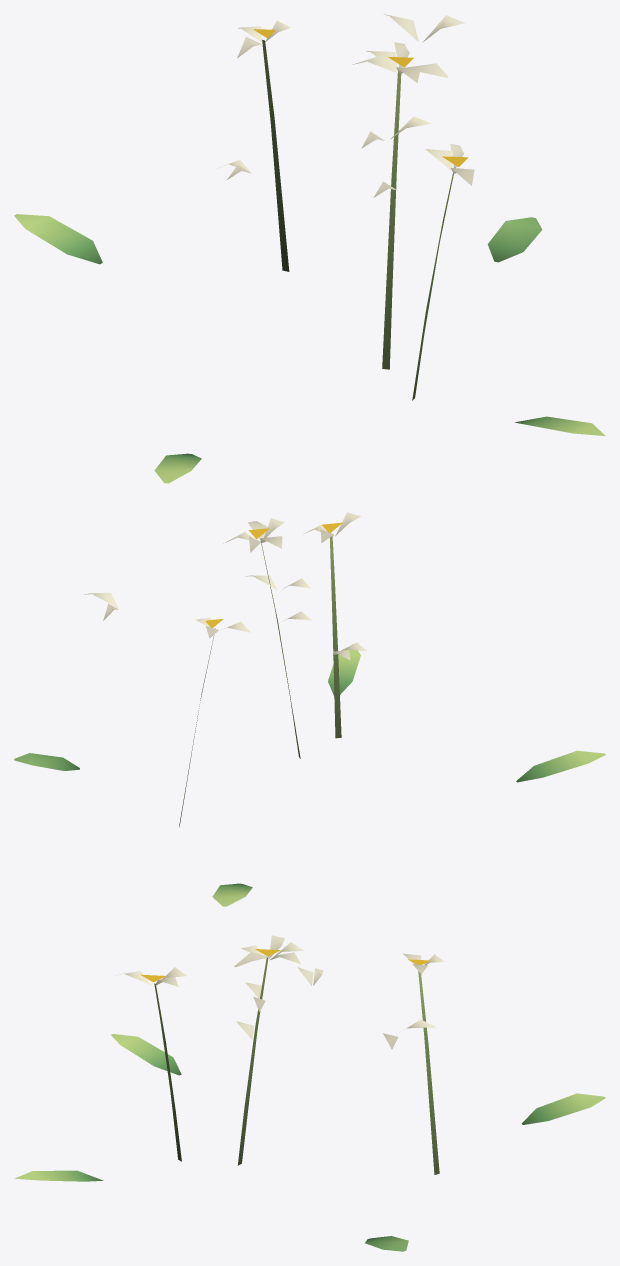
Rendered from TinyDaisyClump_LOD1.glb.
3 views of the same model, one above another, from view 1: azimuth 30°, elevation 25°; view 2: azimuth 150°, elevation 25°; view 3: azimuth 270°, elevation 25° (orthographic). The views are drawn at different scales.
Parts seen in each view (by area): view 1: TinyDaisyClump_LOD1; view 2: TinyDaisyClump_LOD1; view 3: TinyDaisyClump_LOD1.
Part boxes in pixels (box(x1,y1,x2,y2)): TinyDaisyClump_LOD1: box(14, 14, 605, 483); TinyDaisyClump_LOD1: box(14, 512, 605, 906); TinyDaisyClump_LOD1: box(15, 935, 605, 1251).
Bounding box in the file's own units: 0.1642 × 0.0825 × 0.1925.
